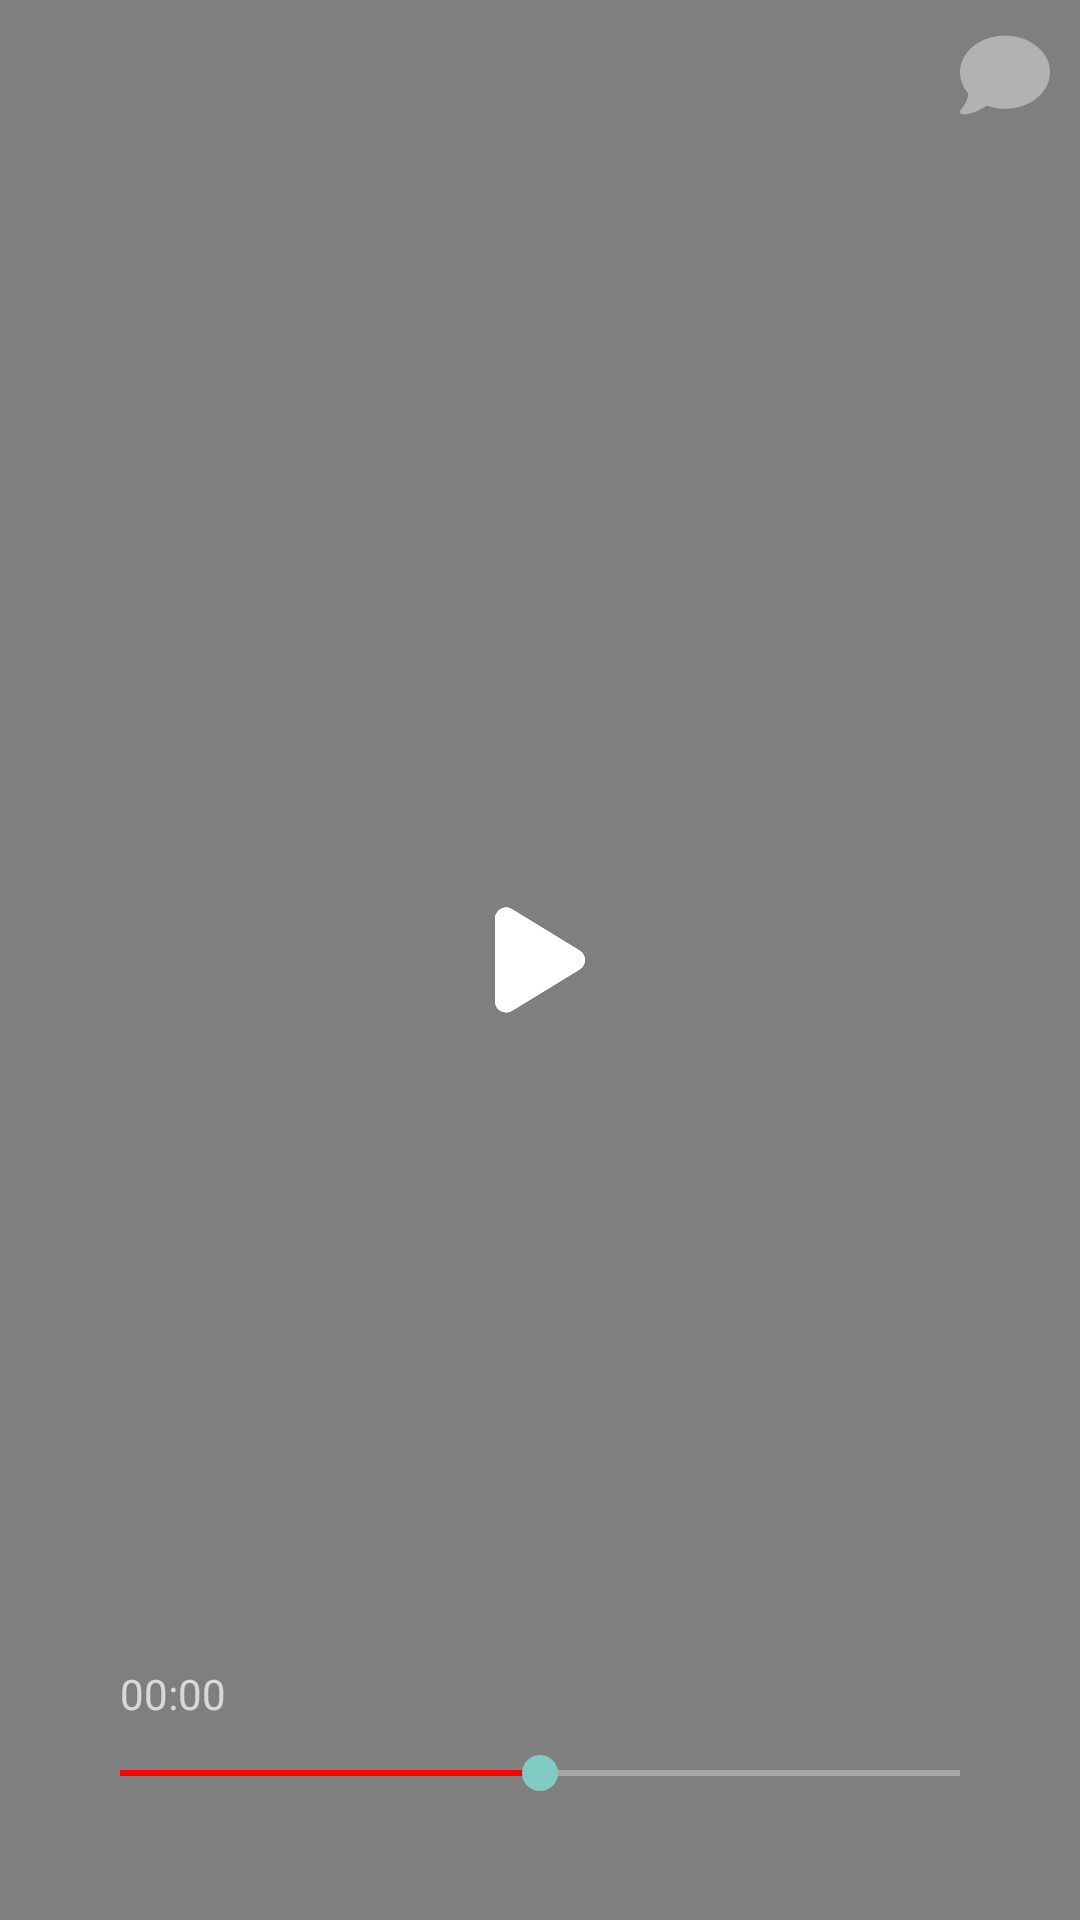

Icons on this 1080px x 1920px Android screen, each with the point to tap as (x,y):
chat: (1005,75)
play: (540,960)
